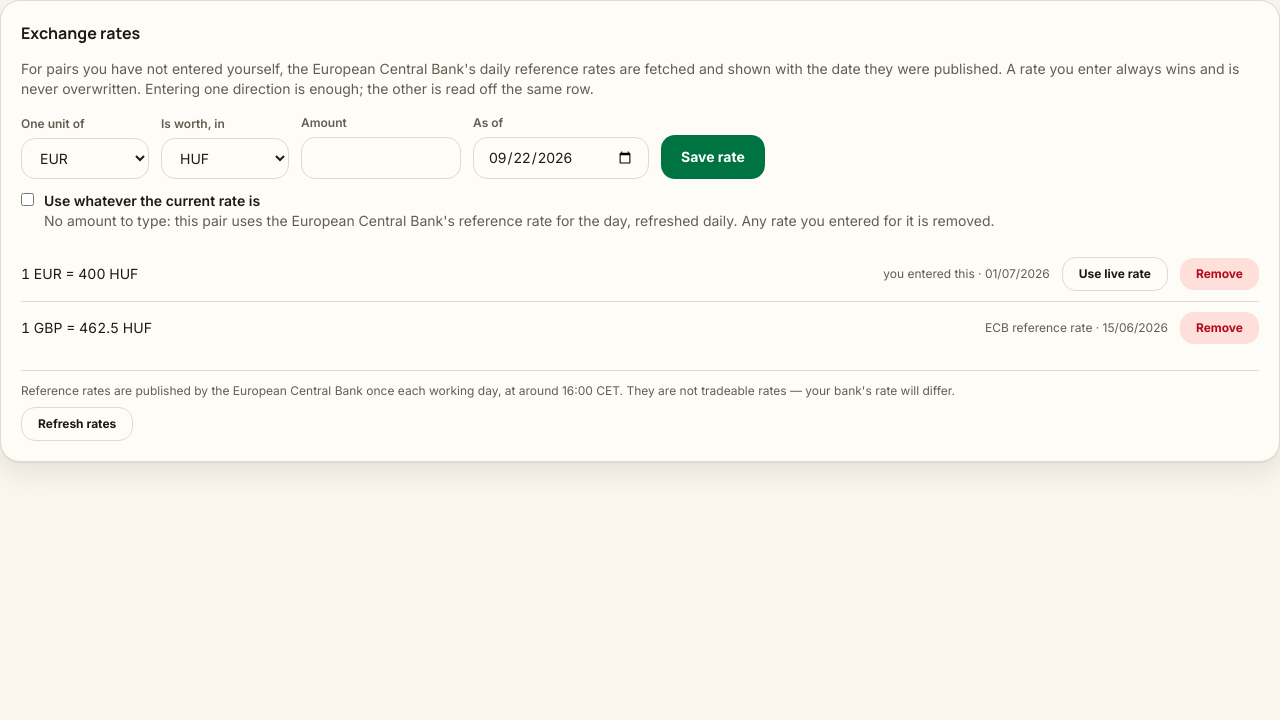
Test case: ExchangeRatesWidget › still reports a delete that failed for any other reason
What coordinates should you click on to do the following:
click the button "Use live rate"
I would click on:
 (1115, 274)
Its box is [1062, 257, 1168, 291].
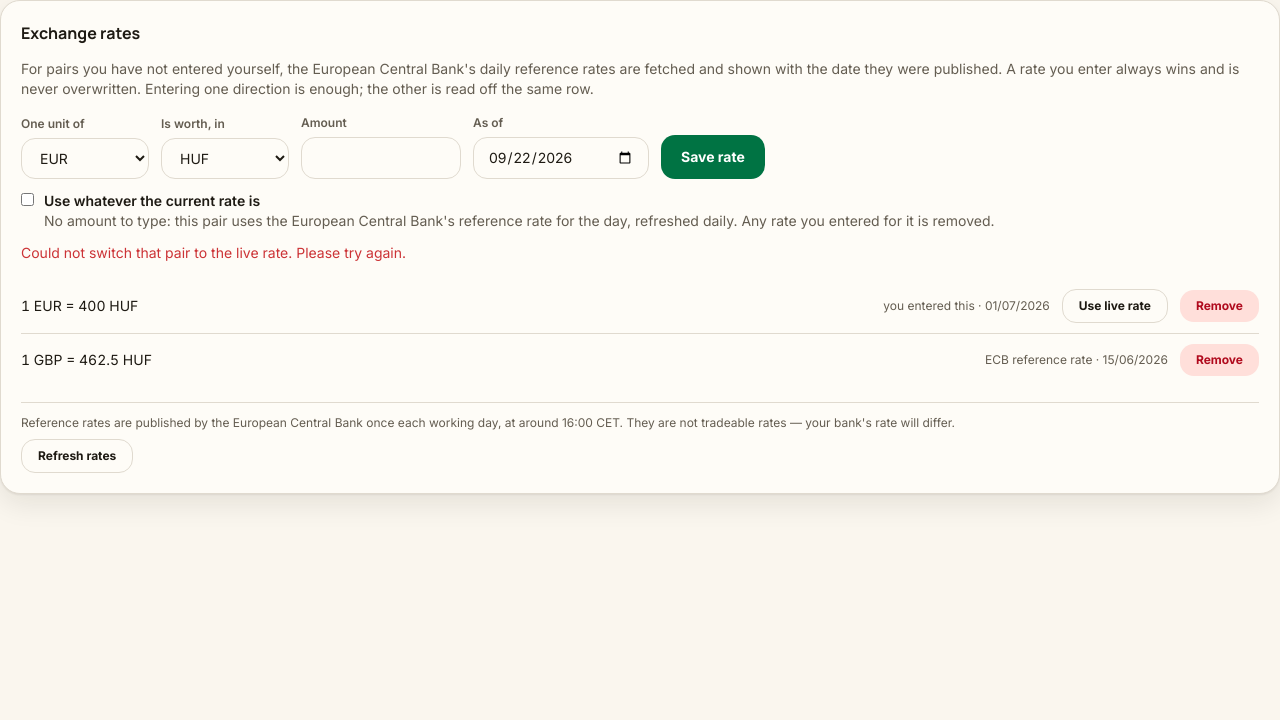
Expected: the text "Could not switch" is shown, [21, 244, 406, 261]
